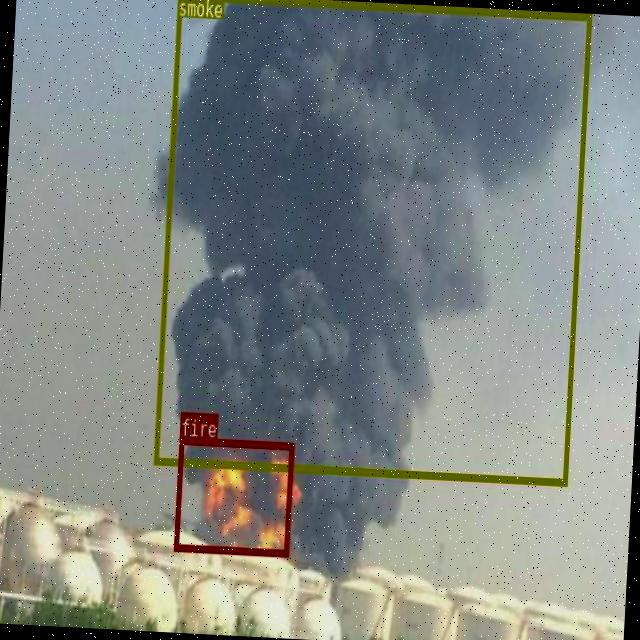fire: (174, 436, 294, 554)
smoke: (153, 0, 592, 485)
